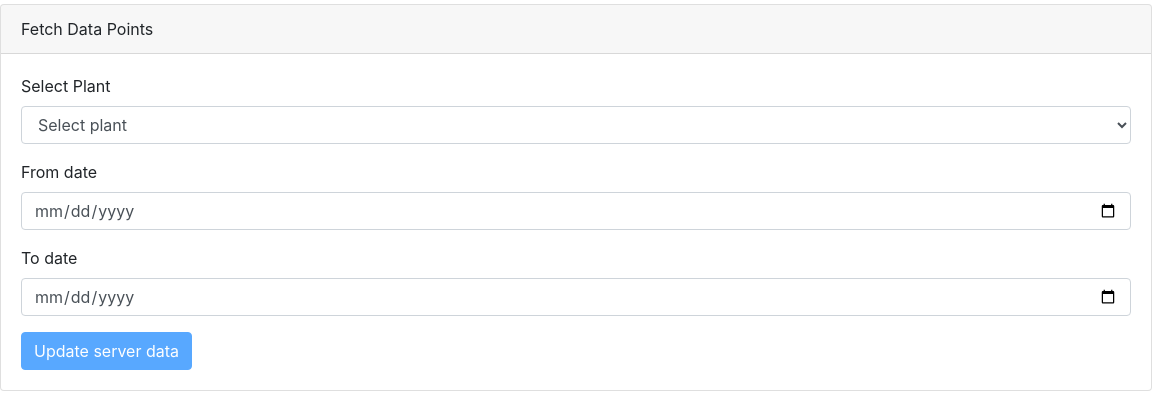
renders datapoints component without crashing › button should be enabled on selecting all fields
Select "a20c140b-1b12-4611-ad39-b0f792cdba47" in the dropdown with test id "select_plant" at (576, 125), box [21, 106, 1131, 144]
Type "2019-03-01" into the date field with test id "from_date" at (576, 211), box [21, 192, 1131, 230]
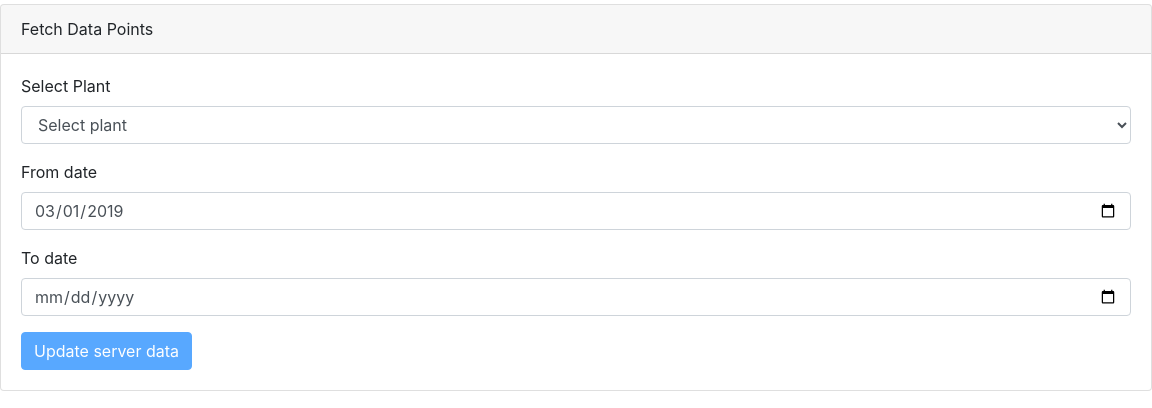
Type "2019-03-30" into the date field with test id "to_date" at (576, 297), box [21, 278, 1131, 316]
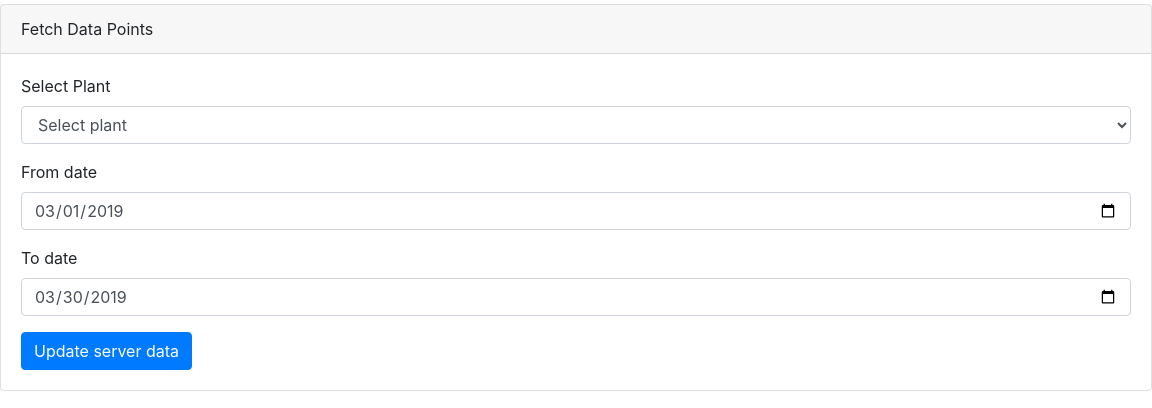
Expected: the button with test id "update_btn" is enabled, [21, 332, 192, 370]
